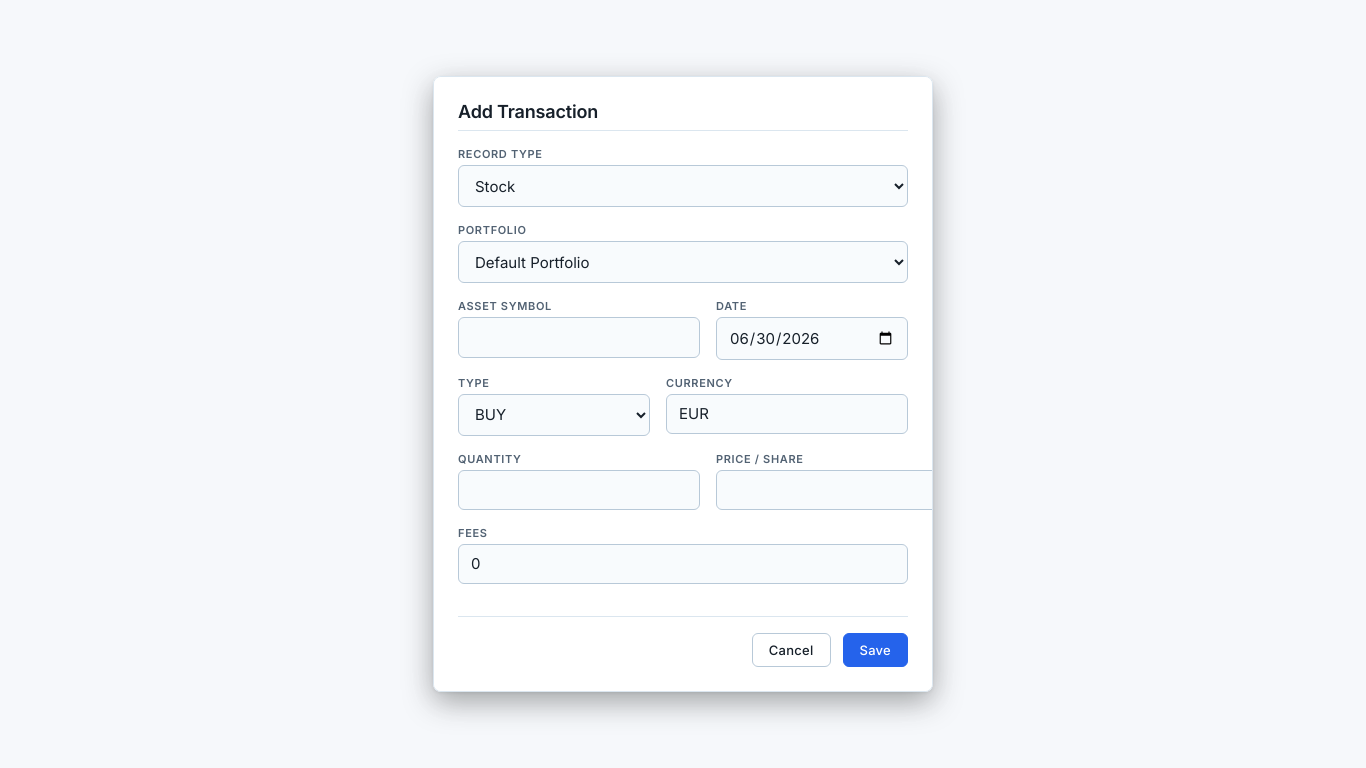
Test: TransactionModal CASH behavior › requires portfolio selection in All Portfolios scope
Select "Cash" in the dropdown named "record type" at (683, 186), box [458,165,908,207]
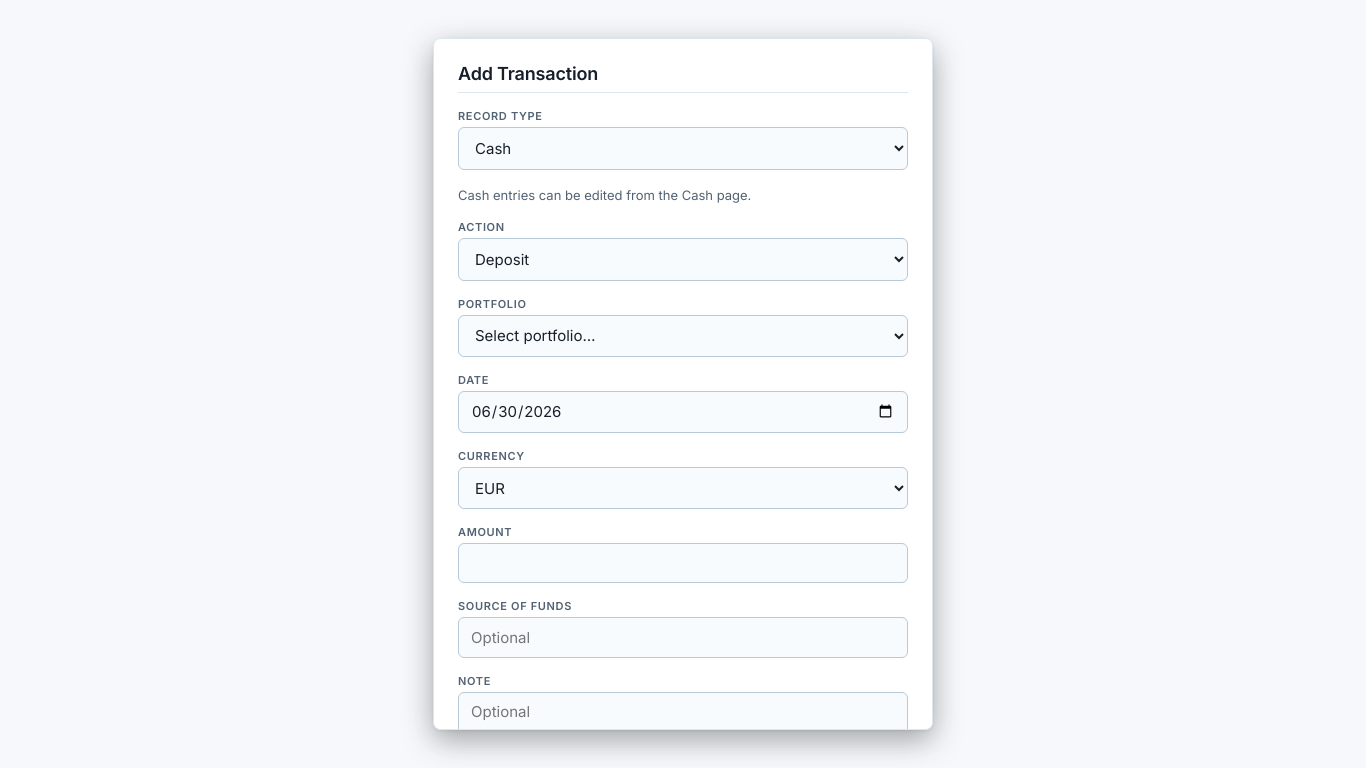
Type "100" into the number field with id "txn-modal-cash-amount" at (683, 563), box [458,543,908,583]
(page scrolled)
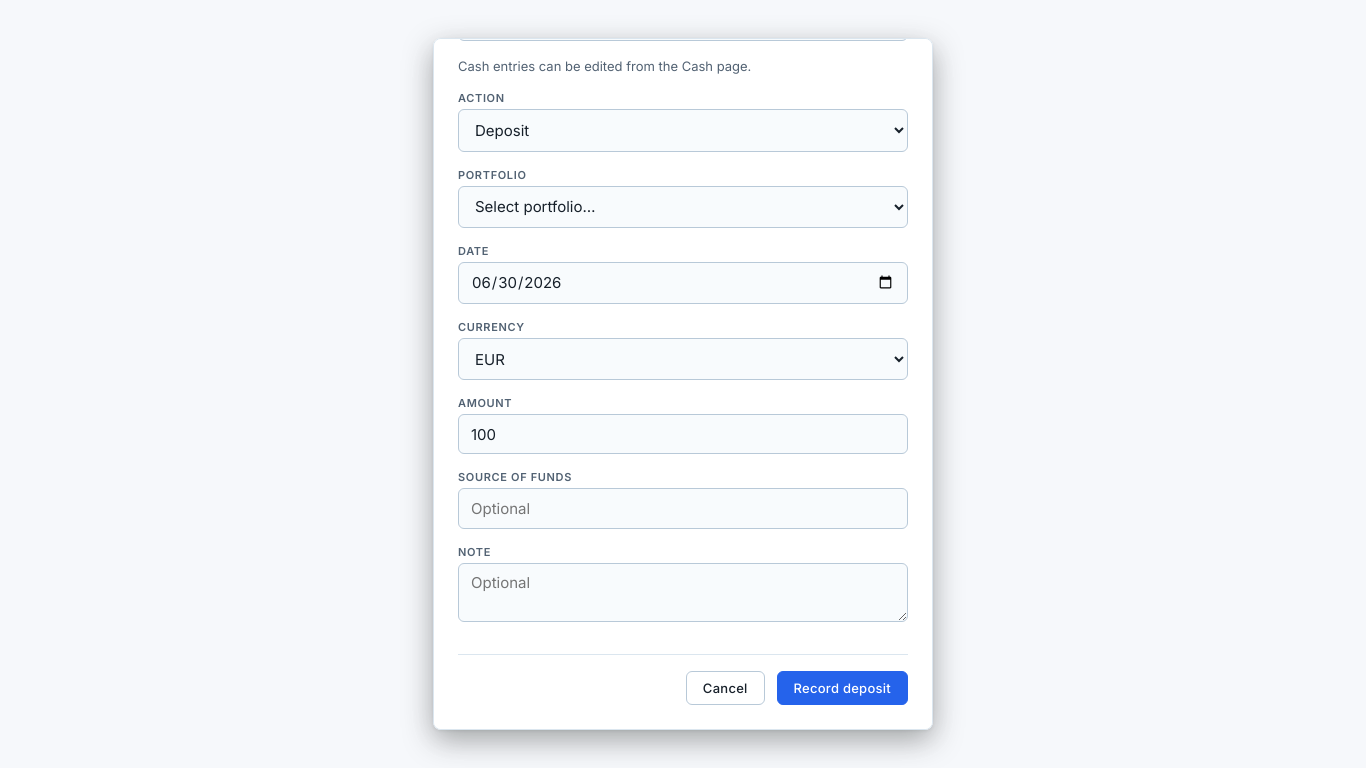
Click the button "Record deposit" at (842, 688), box [777,671,908,705]
(page scrolled)
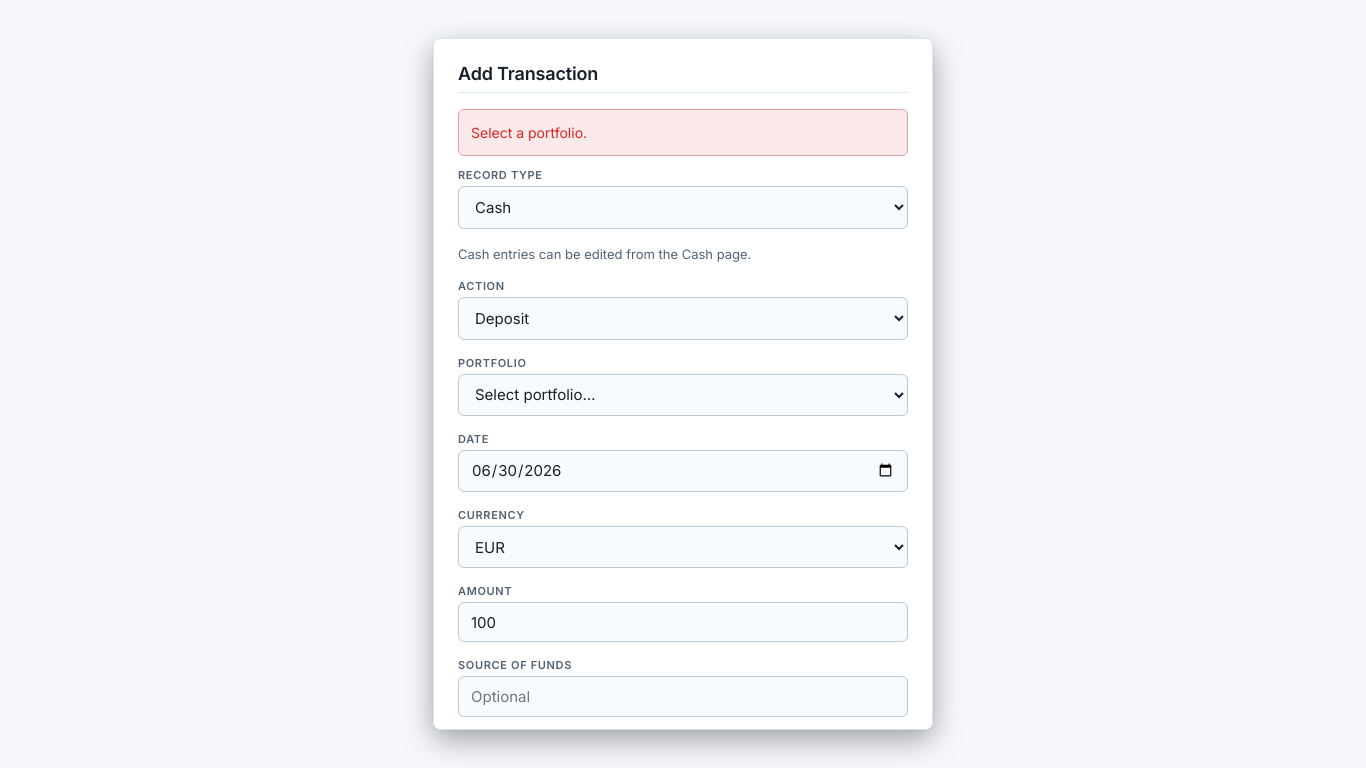
Now the text "Select a portfolio." is shown, box [458,109,908,156]
